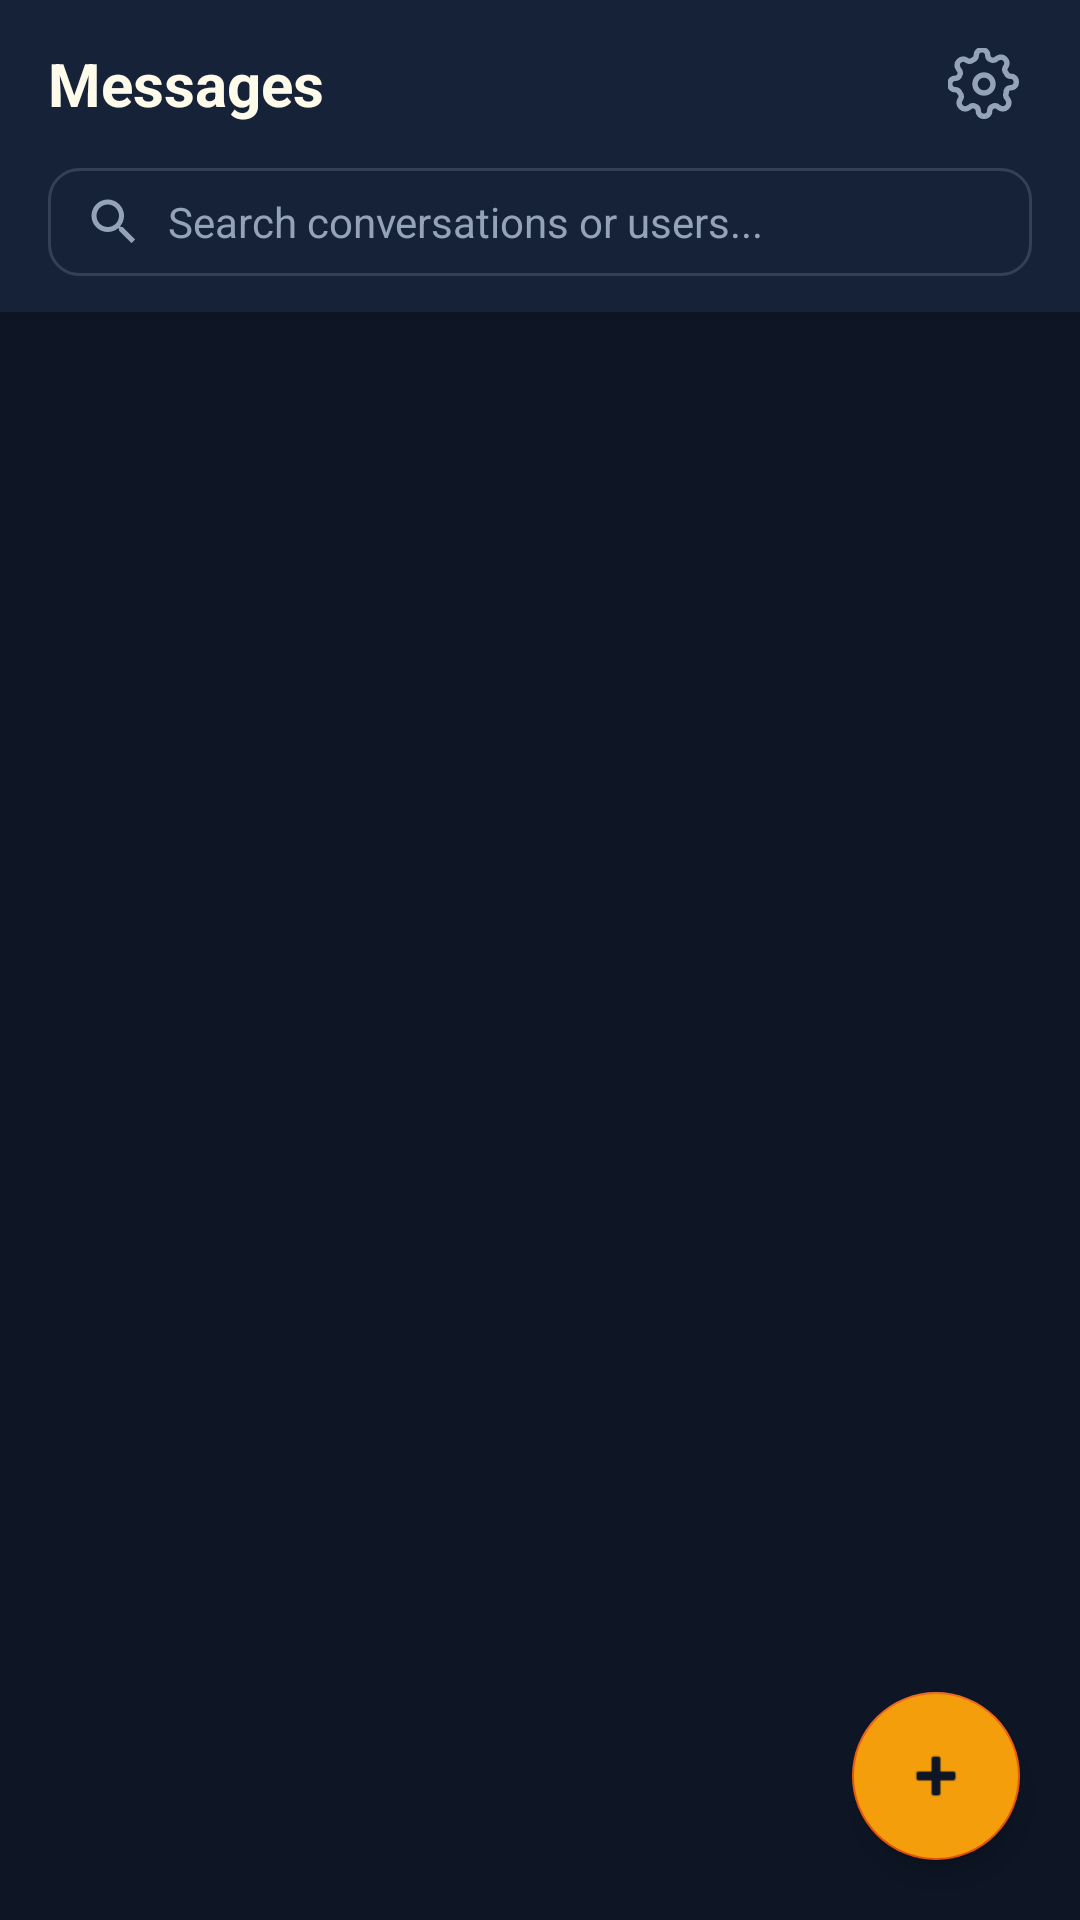

Named icons in this screenshot (1080px×1920px) and their bounding boxes, region(x1, y1, x2, y2):
add: region(852, 1692, 1020, 1860)
settings: region(948, 48, 1019, 119)
